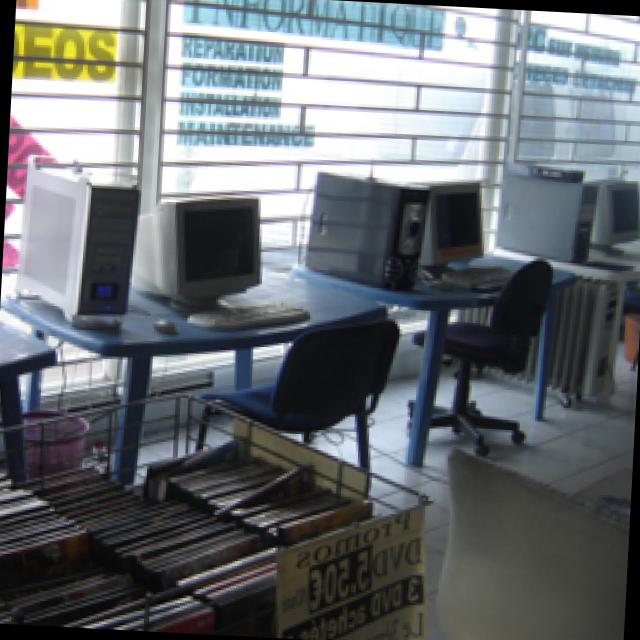2001: (0, 0, 640, 403)
CPU occluded: (21, 165, 142, 312), (308, 167, 430, 288), (499, 168, 603, 261)
DVD: (0, 436, 378, 638)
chair part: (196, 319, 404, 481)
desk calendar: (3, 268, 393, 481), (293, 251, 578, 463)
desk divider: (0, 318, 60, 478)
keyboard crop: (190, 301, 313, 327), (445, 265, 515, 288)
monitor crop: (131, 193, 262, 311), (412, 178, 486, 274), (579, 175, 640, 253)
mouse pad: (157, 317, 177, 330)
radiator: (456, 251, 628, 406)
sign: (278, 499, 436, 640)
swivel chair crop: (410, 257, 554, 451)
wall clock: (0, 278, 640, 465)
